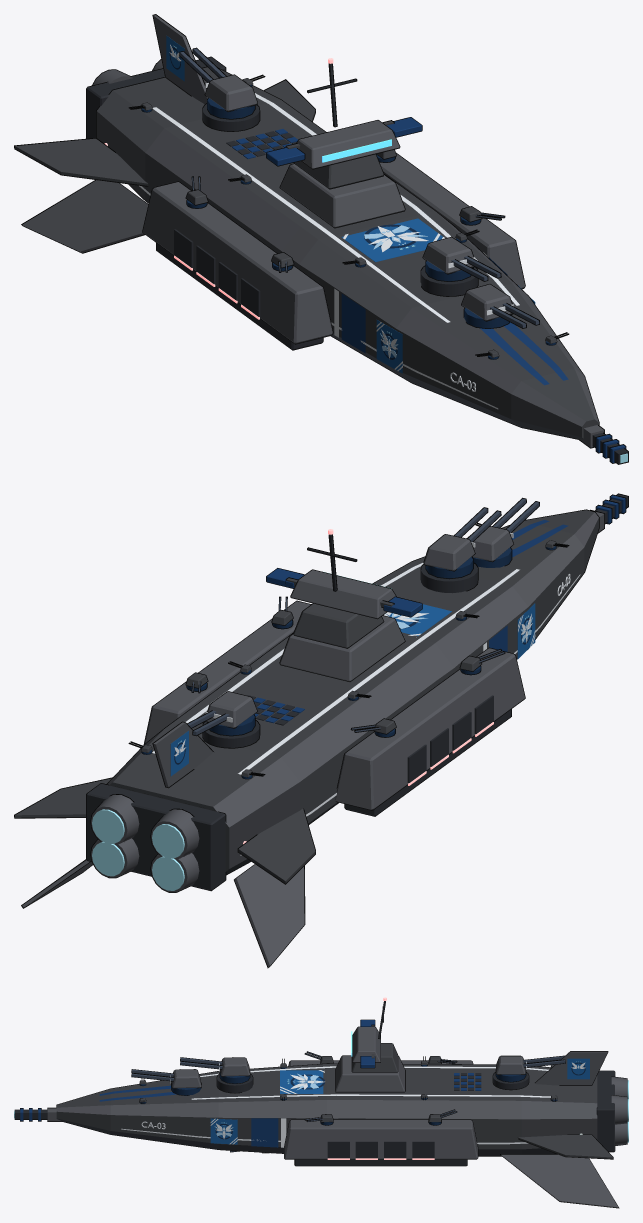
The model's file is Cruiser_Warship.fbx.
3 renders of one model, top to bottom at view 1: azimuth 30°, elevation 25°; view 2: azimuth 150°, elevation 25°; view 3: azimuth 270°, elevation 25°, orthographic. The views are drawn at different scales.
Visible parts, largest first — view 1: Hull, Sponson-1, FinV-1, Bridge_A, Sponson1, FinH-1, Bridge_C, Mk_EmbTop, HangarDoors-1, FinD, Bridge_B, Eng_Block (+12 smaller); view 2: Hull, Sponson-1, Eng_Block, FinV-1, Sponson1, Bridge_A, FinH-1, Bridge_C, Bridge_B, HangarDoors-1, FinH1, FinD (+18 smaller); view 3: Hull, Sponson1, FinV1, Bridge_A, HangarDoors1, FinH1, Eng_Block, SponsonKeel1, FinD, Mk_EmbTop, Bridge_C, Mk_Bandside+ (+14 smaller).
Boxes of the visible parts, left/top/right/bottom form: Hull: left=96, top=66, right=599, bottom=439; Sponson-1: left=142, top=181, right=333, bottom=344; FinV-1: left=21, top=180, right=148, bottom=253; Bridge_A: left=279, top=163, right=405, bottom=228; Sponson1: left=379, top=152, right=525, bottom=289; FinH-1: left=14, top=138, right=148, bottom=186; Bridge_C: left=296, top=120, right=400, bottom=169; Mk_EmbTop: left=341, top=218, right=444, bottom=262; HangarDoors-1: left=174, top=229, right=260, bottom=319; FinD: left=152, top=14, right=207, bottom=103; Bridge_B: left=294, top=154, right=384, bottom=189; Eng_Block: left=86, top=56, right=226, bottom=138; Hull: left=106, top=509, right=599, bottom=875; Sponson-1: left=335, top=647, right=525, bottom=810; Eng_Block: left=86, top=783, right=226, bottom=891; FinV-1: left=234, top=864, right=305, bottom=968; Sponson1: left=143, top=600, right=311, bottom=744; Bridge_A: left=279, top=615, right=405, bottom=681; FinH-1: left=237, top=808, right=315, bottom=884; Bridge_C: left=290, top=569, right=396, bottom=619; Bridge_B: left=293, top=603, right=384, bottom=648; HangarDoors-1: left=407, top=695, right=493, bottom=785; FinH1: left=14, top=777, right=112, bottom=818; FinD: left=152, top=721, right=213, bottom=788; Hull: left=56, top=1063, right=597, bottom=1156; Sponson1: left=284, top=1119, right=478, bottom=1159; FinV1: left=500, top=1154, right=619, bottom=1208; Bridge_A: left=335, top=1055, right=405, bottom=1092; HangarDoors1: left=327, top=1141, right=434, bottom=1159; FinH1: left=517, top=1134, right=613, bottom=1159; Eng_Block: left=596, top=1070, right=615, bottom=1152; SponsonKeel1: left=294, top=1159, right=467, bottom=1166; FinD: left=534, top=1051, right=608, bottom=1085; Mk_EmbTop: left=280, top=1070, right=324, bottom=1093; Bridge_C: left=352, top=1026, right=380, bottom=1062; Mk_Bandside+: left=251, top=1118, right=278, bottom=1147.
Bounding box in the file's own units: 66.72 × 64.04 × 207.
